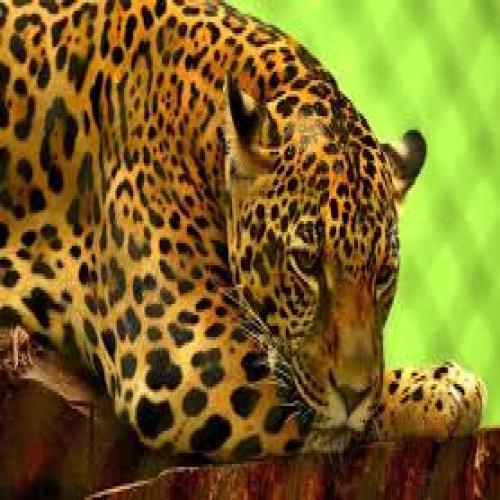jaguar_not-endangered: (61, 0, 399, 445)
